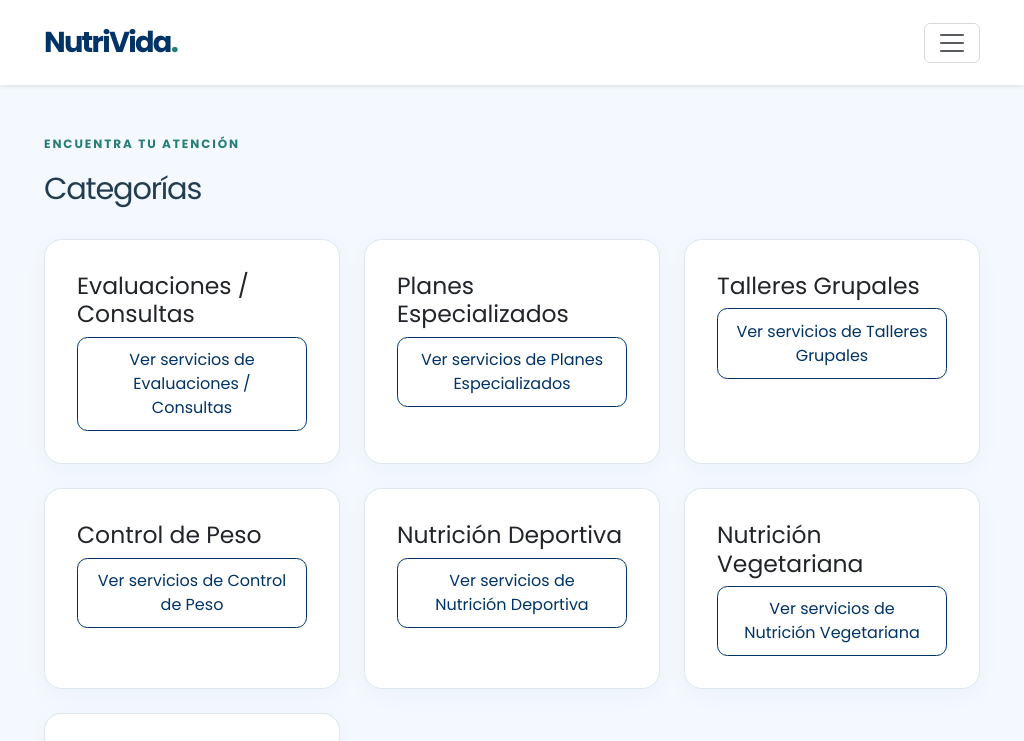
Test: Categorías ofertas y carrito › abre una categoría filtra servicios y muestra un estado sin resultados
Step 1. Click the button "Ver servicios de Evaluaciones / Consultas" → (192, 384), box [77,337,307,431]
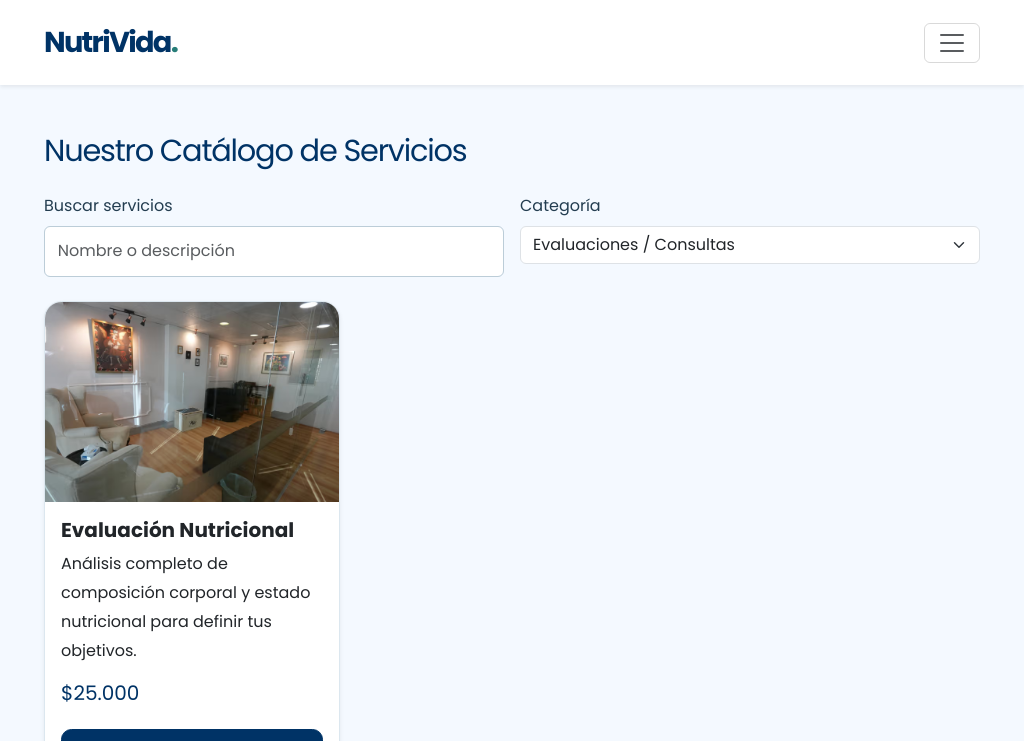
Step 2. Type "sin coincidencia" into the field labelled "Buscar servicios" → (274, 252), box [44,226,504,277]
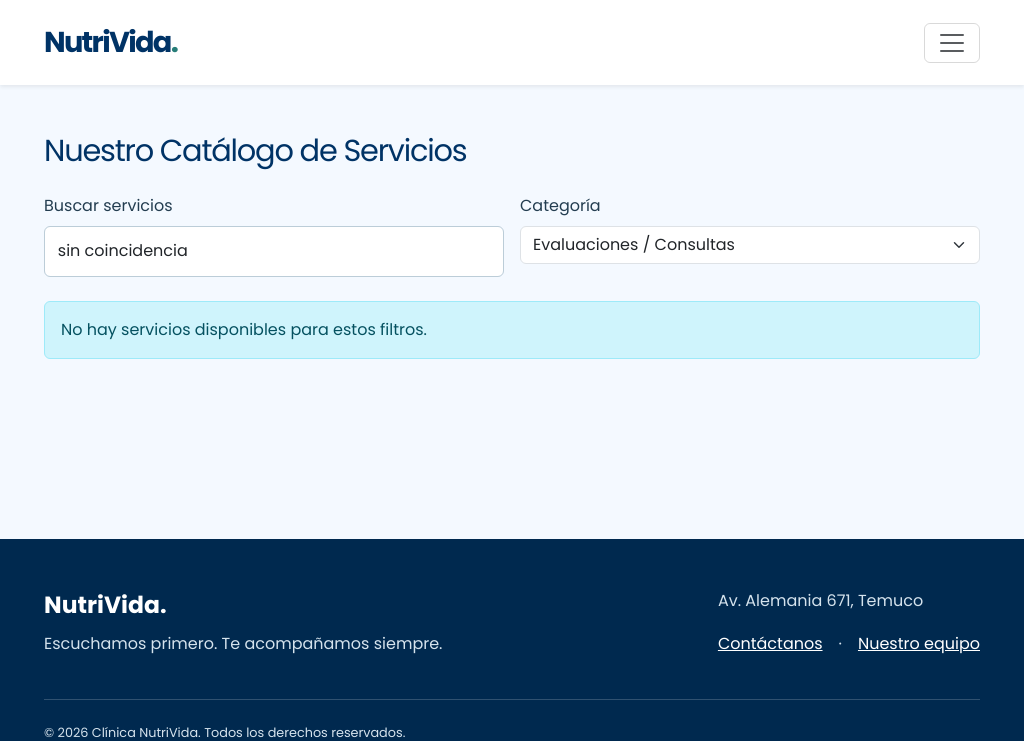
Expected: the text "No hay servicios disponibles para estos filtros." is shown, [44,301,980,359]
